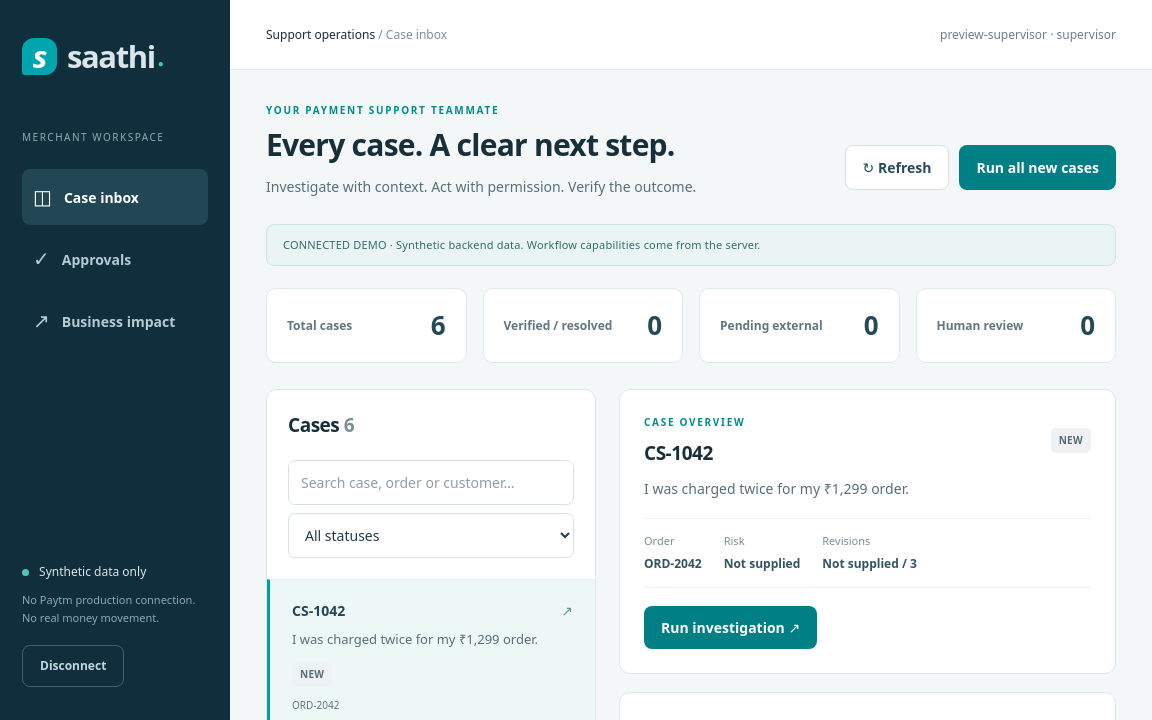
support workspace › does not invent success when the backend rejects a run
Click the button "Run investigation ↗": click(731, 627) [644, 606, 817, 649]
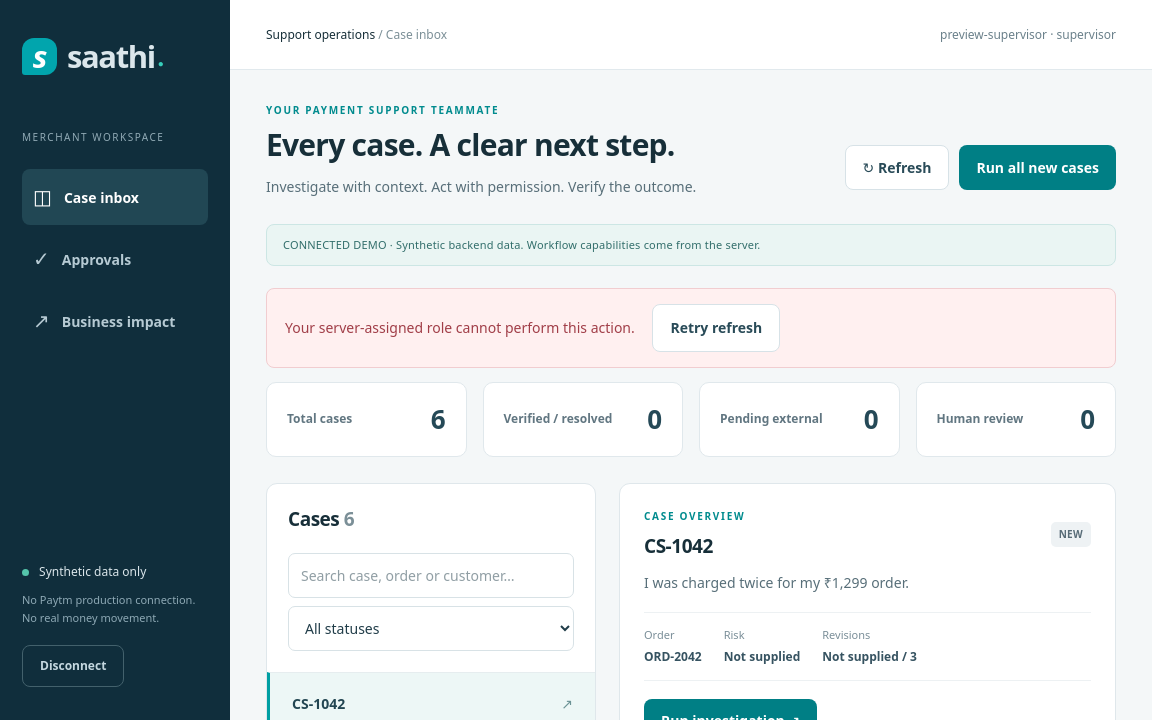
Check: the message shows "cannot perform", box [285, 318, 635, 337]
